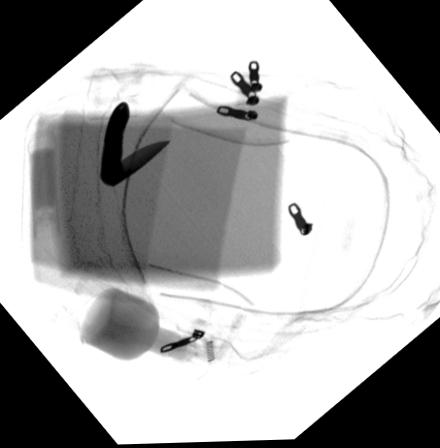Knife: (98, 100, 172, 189)
